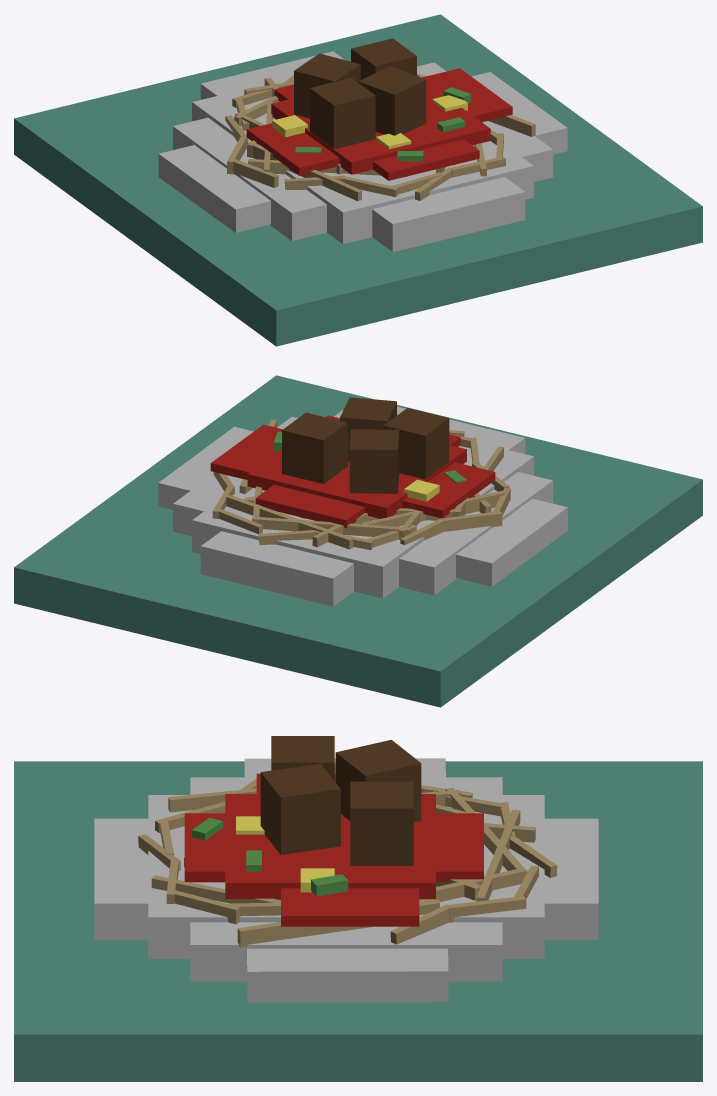
The model's file is object_food_spaghetti.fbx.
The picture shows the model from 3 angles, top to bottom: view 1: azimuth 30°, elevation 25°; view 2: azimuth 150°, elevation 25°; view 3: azimuth 270°, elevation 25°; orthographic projection. The views are drawn at different scales.
Parts seen in each view (by area): view 1: mesh_food_spaghetti; view 2: mesh_food_spaghetti; view 3: mesh_food_spaghetti.
Boxes of the visible parts, left/top/right/bottom form: mesh_food_spaghetti: left=14, top=14, right=702, bottom=346; mesh_food_spaghetti: left=14, top=375, right=702, bottom=707; mesh_food_spaghetti: left=14, top=736, right=702, bottom=1081.
Size of the model in its own units: 0.6447 by 0.1895 by 0.6867.
